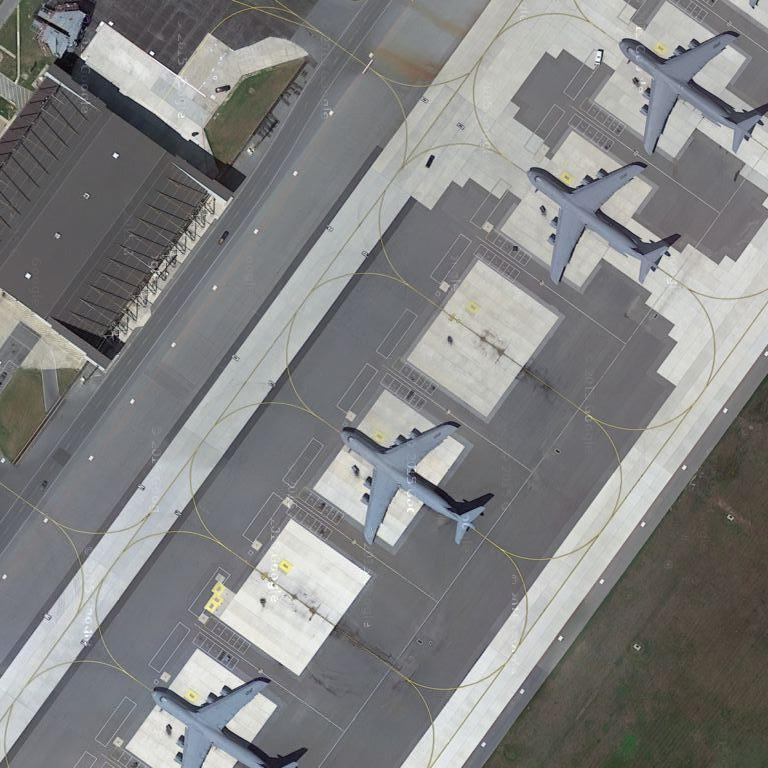KC-135: (339, 419, 495, 549), (526, 160, 673, 292), (619, 30, 760, 161), (146, 676, 300, 768)
